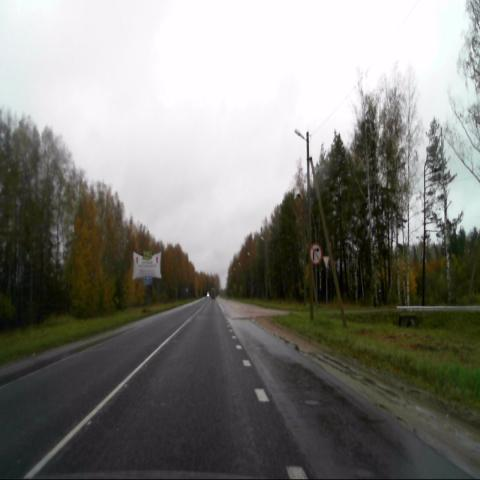3_18: (310, 244, 321, 267)
